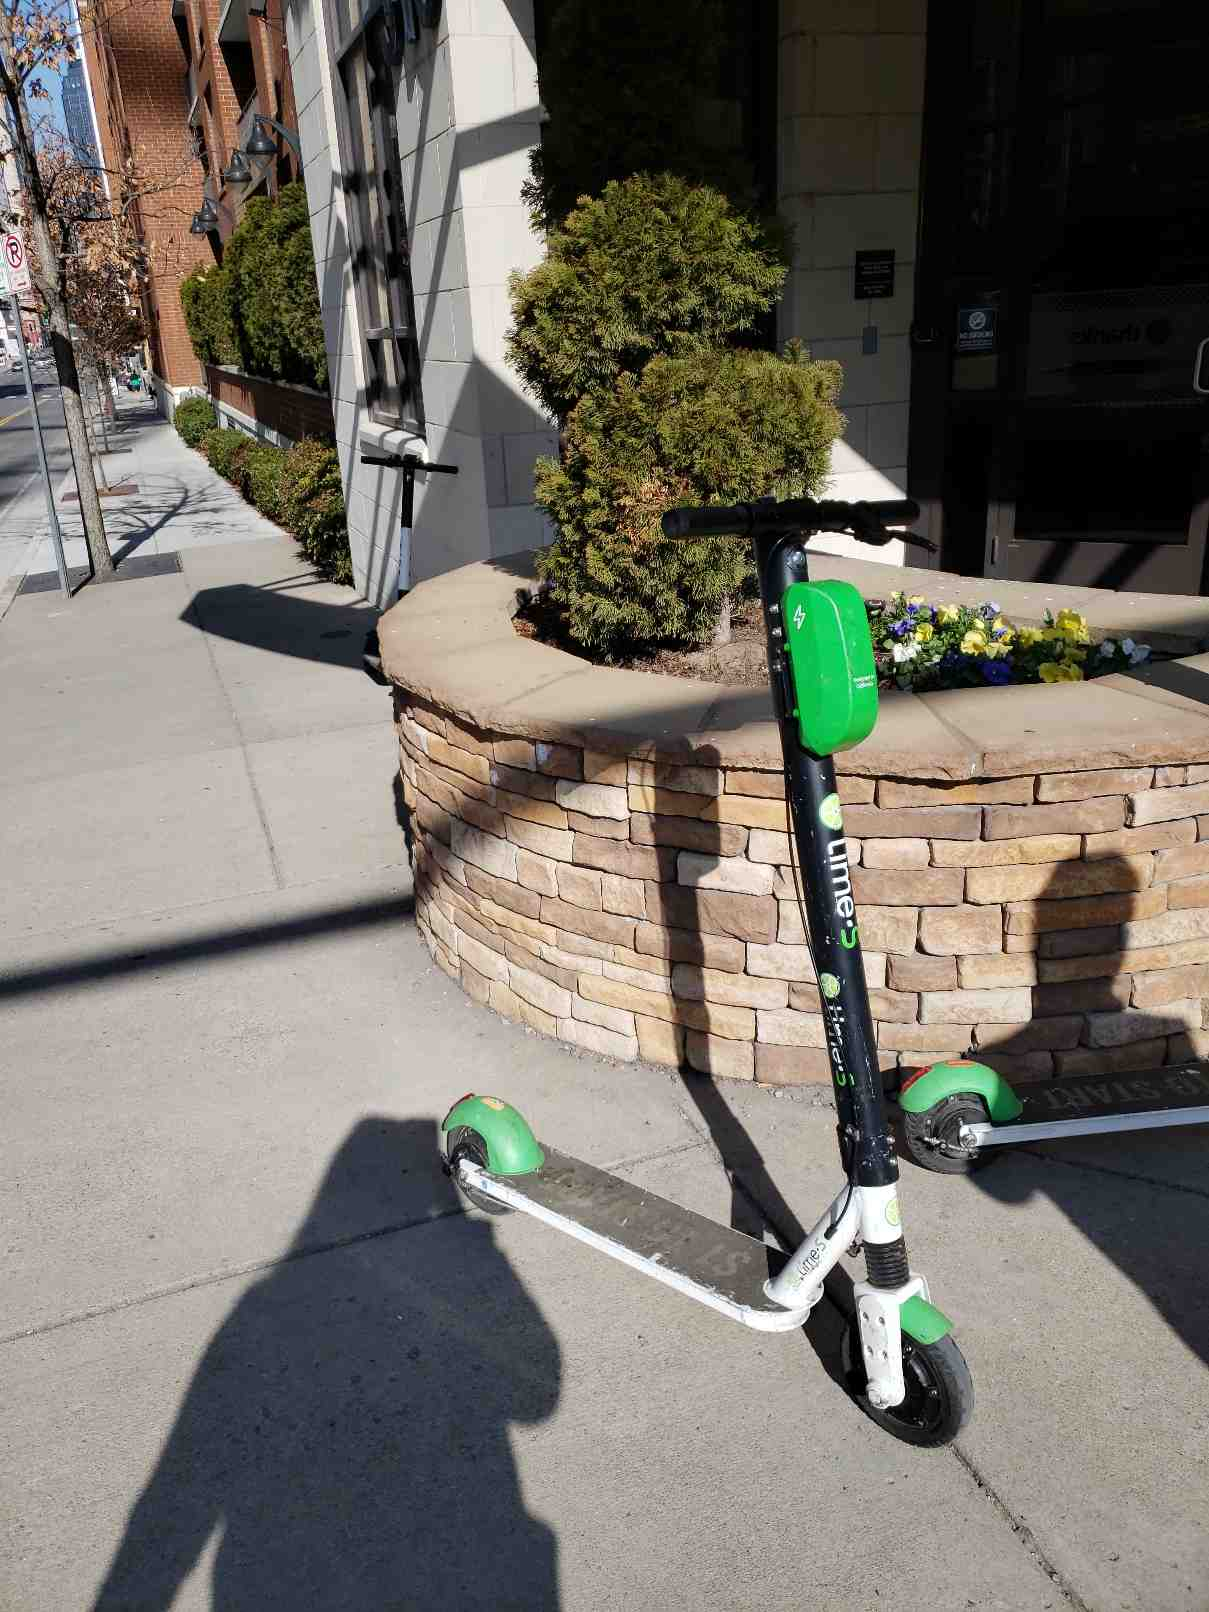scooter: (378, 484, 1001, 1458)
